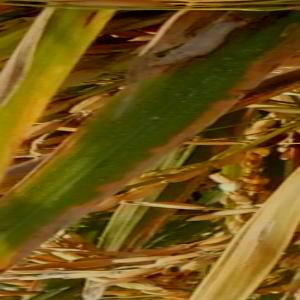2 BacterialBlight: (1, 156, 109, 236)
